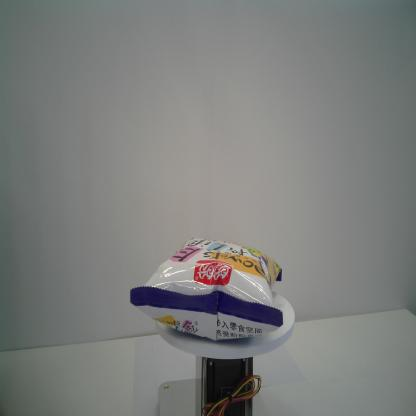Puffed Food: (127, 233, 286, 346)
